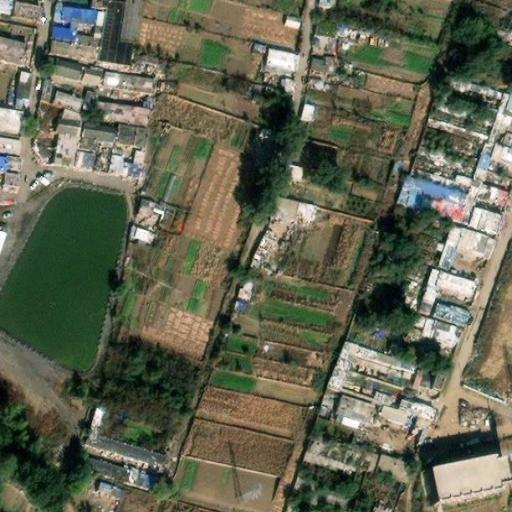building: (82, 406, 174, 468), (329, 341, 414, 390), (423, 462, 506, 507), (419, 265, 476, 327), (396, 171, 464, 221), (438, 221, 499, 271), (311, 430, 381, 473), (79, 455, 157, 490), (461, 167, 512, 213), (101, 0, 139, 61), (453, 197, 507, 237), (376, 396, 436, 431), (416, 312, 469, 349), (471, 136, 512, 180), (334, 393, 379, 431), (482, 93, 512, 145), (54, 110, 81, 167), (51, 28, 98, 60), (246, 224, 279, 269), (76, 121, 117, 156), (374, 450, 413, 483), (96, 102, 148, 126), (113, 122, 146, 157), (54, 5, 97, 31), (103, 70, 153, 92), (417, 361, 451, 392), (109, 151, 145, 180), (269, 196, 300, 224), (138, 197, 168, 224), (266, 47, 297, 71), (14, 71, 33, 110), (74, 151, 111, 171), (0, 36, 26, 64), (53, 59, 83, 82), (96, 480, 126, 502), (309, 54, 339, 76), (236, 279, 255, 313), (295, 202, 318, 228), (0, 108, 22, 134), (81, 63, 106, 85), (130, 225, 157, 244), (94, 10, 107, 48), (283, 10, 305, 30), (371, 497, 400, 512), (2, 170, 21, 190), (280, 72, 298, 92), (0, 136, 21, 153), (39, 78, 52, 104), (301, 104, 314, 125), (288, 163, 305, 179), (315, 0, 334, 12), (84, 88, 94, 110)
